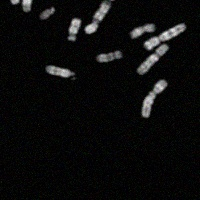chromosome: (83, 0, 124, 35), (143, 21, 186, 51), (136, 43, 169, 75), (141, 78, 168, 117), (45, 66, 77, 82), (64, 17, 81, 42), (130, 21, 154, 38), (95, 50, 123, 63), (39, 5, 56, 22), (21, 0, 39, 13), (4, 0, 20, 5), (0, 0, 3, 2)
